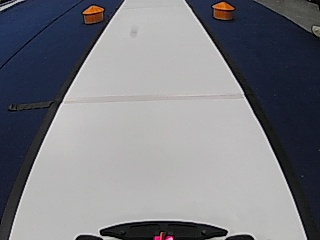granary: (80, 4, 106, 25), (210, 0, 235, 21)
